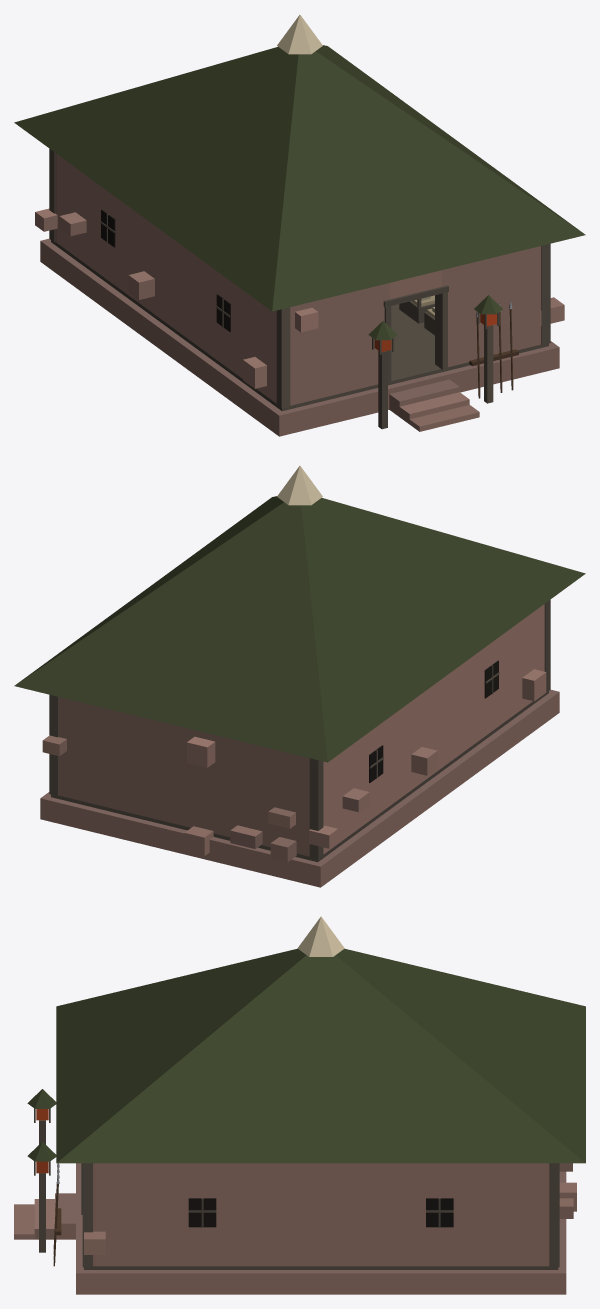
The model's file is walk_reef_barracks.glb.
3 renders of one model, top to bottom at view 1: azimuth 30°, elevation 25°; view 2: azimuth 150°, elevation 25°; view 3: azimuth 270°, elevation 25°, orthographic. The views are drawn at different scales.
Visible parts, largest first — view 1: walk_reef_barracks_roof, walk_reef_barracks; view 2: walk_reef_barracks_roof, walk_reef_barracks; view 3: walk_reef_barracks_roof, walk_reef_barracks.
Boxes of the visible parts, x1=… form: walk_reef_barracks_roof: x1=14, y1=15, x2=585, y2=311; walk_reef_barracks: x1=35, y1=148, x2=564, y2=436; walk_reef_barracks_roof: x1=14, y1=466, x2=585, y2=762; walk_reef_barracks: x1=40, y1=599, x2=559, y2=887; walk_reef_barracks_roof: x1=56, y1=916, x2=585, y2=1163; walk_reef_barracks: x1=14, y1=1089, x2=576, y2=1294.
Size of what is drawn, in the model's own units: 9.4 by 8.61 by 14.47.
2 materials, 2 textured.
